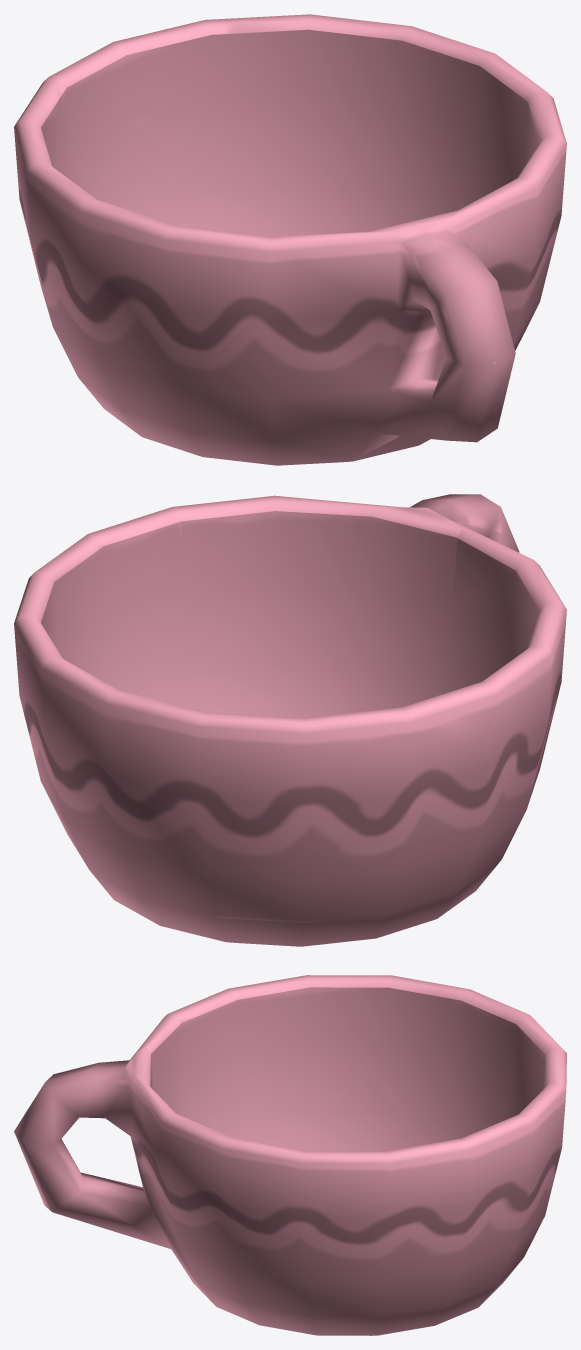
File: Cup.glb
3 views of the same model, one above another, from view 1: azimuth 30°, elevation 25°; view 2: azimuth 150°, elevation 25°; view 3: azimuth 270°, elevation 25° (orthographic). The views are drawn at different scales.
Parts seen in each view (by area): view 1: Cup; view 2: Cup; view 3: Cup.
Boxes of the visible parts, x1=… form: Cup: x1=14, y1=14, x2=566, y2=465; Cup: x1=14, y1=494, x2=566, y2=946; Cup: x1=14, y1=975, x2=566, y2=1335.
Size of the model in its own units: 69.58 by 38.51 by 87.87.
Materials: 1 (1 with a texture image).
